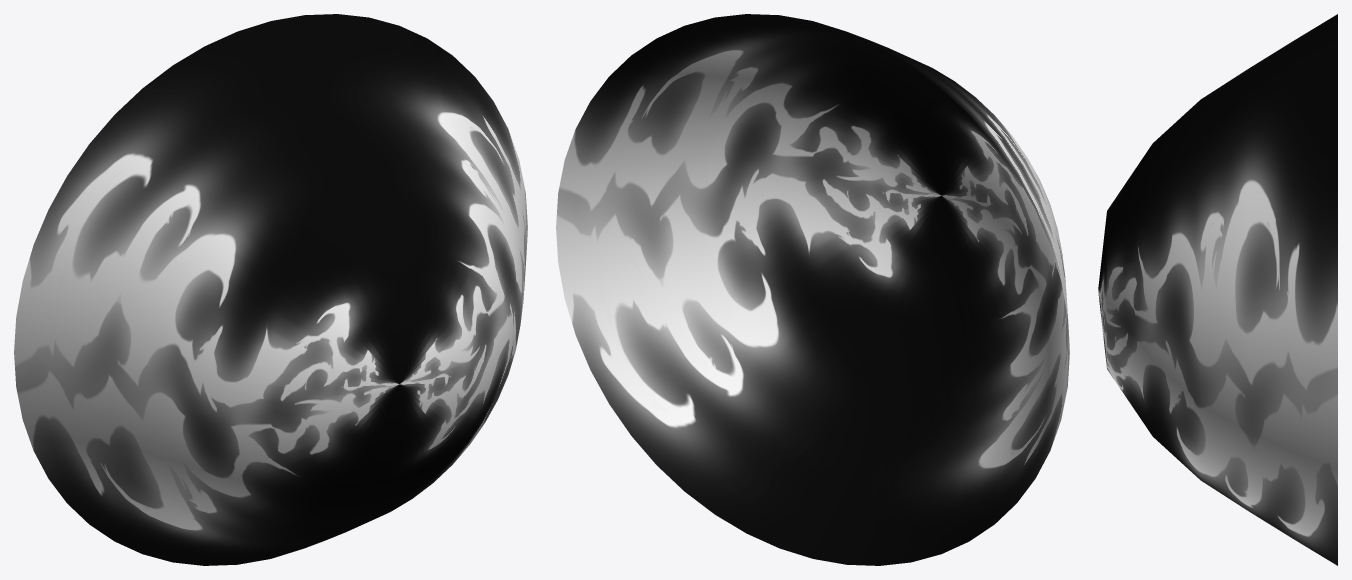
File: FireAura 1.fbx
3 renders of one model, left to right at view 1: azimuth 30°, elevation 25°; view 2: azimuth 150°, elevation 25°; view 3: azimuth 270°, elevation 25°, orthographic. The views are drawn at different scales.
Parts seen in each view (by area): view 1: pasted__CircleFrontSphereHorizontal; view 2: pasted__CircleFrontSphereHorizontal; view 3: pasted__CircleFrontSphereHorizontal.
Part boxes in pixels (x1,y1,x2,y2): pasted__CircleFrontSphereHorizontal: (14,14,527,565); pasted__CircleFrontSphereHorizontal: (556,14,1069,565); pasted__CircleFrontSphereHorizontal: (1098,14,1337,565).
Bounding box in the file's own units: 48.57 × 48.57 × 21.07.
1 material, 1 textured.
